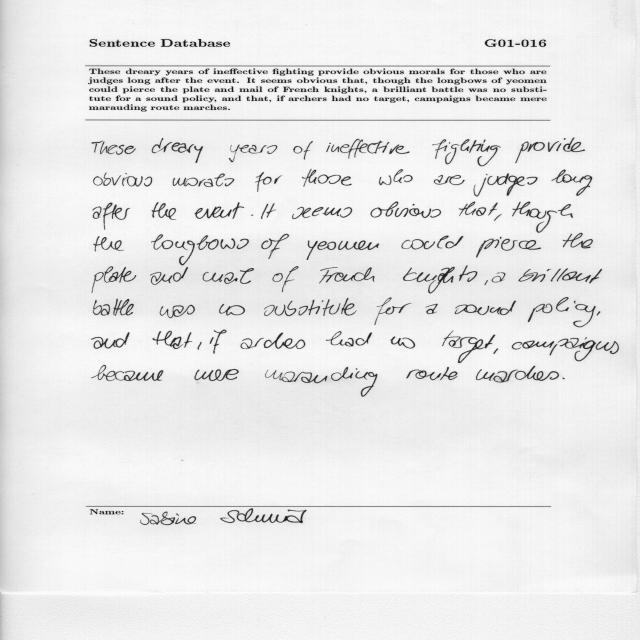word: (265, 367, 378, 397), (151, 234, 249, 266), (512, 338, 619, 362), (403, 266, 477, 294), (528, 297, 596, 327), (432, 139, 501, 167), (512, 202, 573, 233), (515, 138, 585, 163), (442, 331, 495, 363), (326, 139, 410, 159), (264, 298, 357, 316), (474, 173, 538, 197), (476, 366, 559, 383), (307, 241, 380, 260), (476, 237, 541, 258), (518, 268, 602, 284), (152, 138, 203, 163), (92, 266, 136, 293), (92, 365, 164, 381), (370, 202, 441, 218), (552, 169, 593, 196), (374, 297, 412, 325), (241, 333, 306, 349), (93, 203, 130, 230), (319, 267, 375, 284), (302, 169, 352, 187), (402, 236, 464, 250), (229, 145, 277, 163), (455, 301, 516, 315), (195, 202, 245, 219), (94, 173, 153, 187), (203, 268, 254, 284), (173, 174, 234, 187), (292, 207, 352, 219), (153, 331, 193, 349), (272, 266, 299, 292), (261, 234, 289, 259), (93, 299, 134, 316), (326, 332, 372, 347), (150, 267, 188, 285), (407, 367, 458, 380), (92, 140, 136, 155), (92, 332, 130, 349), (459, 202, 498, 216), (379, 169, 413, 185), (255, 172, 282, 192), (194, 369, 239, 381), (94, 236, 124, 252), (159, 305, 195, 318), (152, 202, 177, 220), (563, 233, 593, 248), (210, 330, 227, 354), (293, 141, 313, 159), (390, 336, 415, 349), (219, 304, 245, 316), (434, 175, 465, 185), (261, 203, 276, 219), (492, 273, 506, 283), (425, 304, 438, 314), (494, 214, 502, 221), (198, 342, 202, 350), (494, 348, 499, 354), (484, 280, 488, 285), (597, 311, 601, 316), (562, 378, 565, 379), (251, 215, 253, 216)
